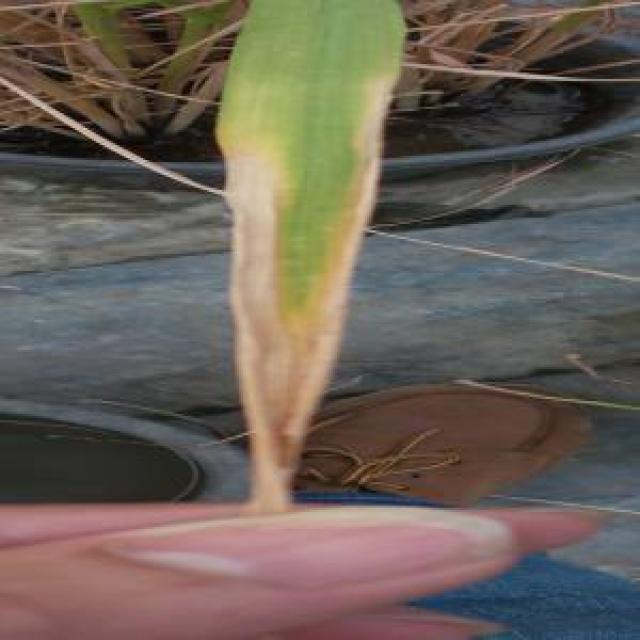Bacterial_Leaf_Blight: (209, 32, 390, 495)
